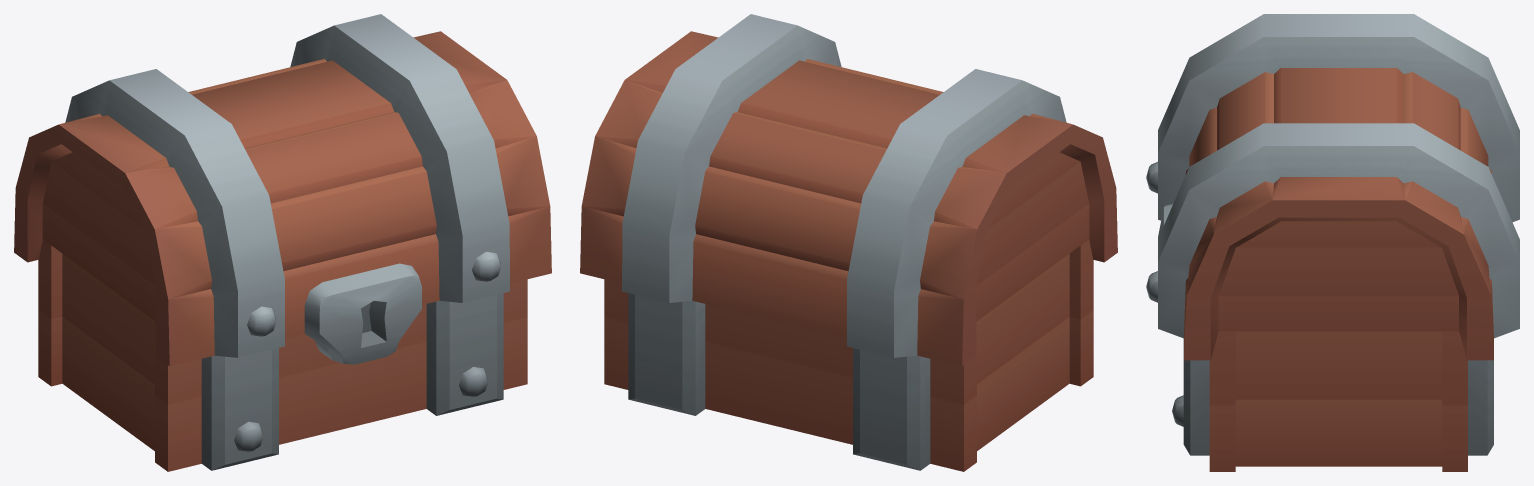
File: chest_gold.glb
3 renders of one model, left to right at view 1: azimuth 30°, elevation 25°; view 2: azimuth 150°, elevation 25°; view 3: azimuth 270°, elevation 25°, orthographic.
Parts seen in each view (by area): view 1: chest_gold_lid, Cube.14744; view 2: chest_gold_lid, Cube.14744; view 3: chest_gold_lid, Cube.14744.
Part boxes in pixels (box(x1,y1,x2,y2)): chest_gold_lid: box(14, 14, 551, 366); Cube.14744: box(38, 239, 527, 471); chest_gold_lid: box(580, 14, 1117, 366); Cube.14744: box(604, 239, 1093, 471); chest_gold_lid: box(1146, 14, 1519, 360); Cube.14744: box(1172, 331, 1493, 471).
Size of the model in its own units: 1.7 by 1.3 by 1.45.
1 material, 1 textured.
